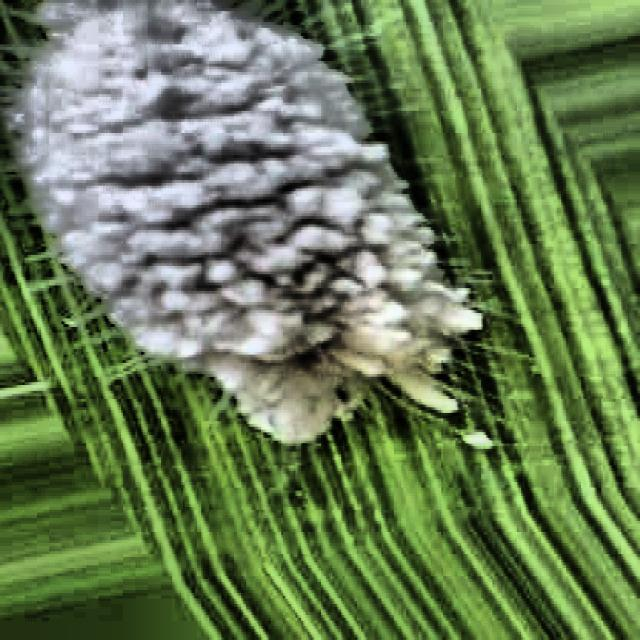Mealy-bug: (10, 0, 516, 474)
